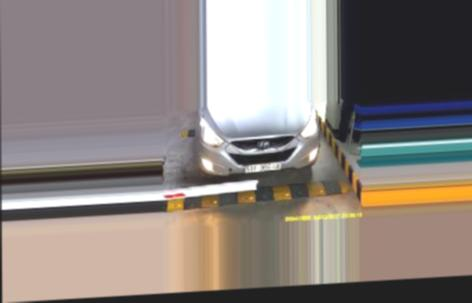License_Plate: (245, 161, 281, 176)
